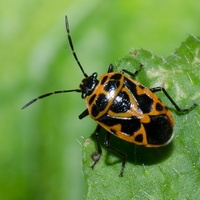insect: (21, 16, 198, 176)
